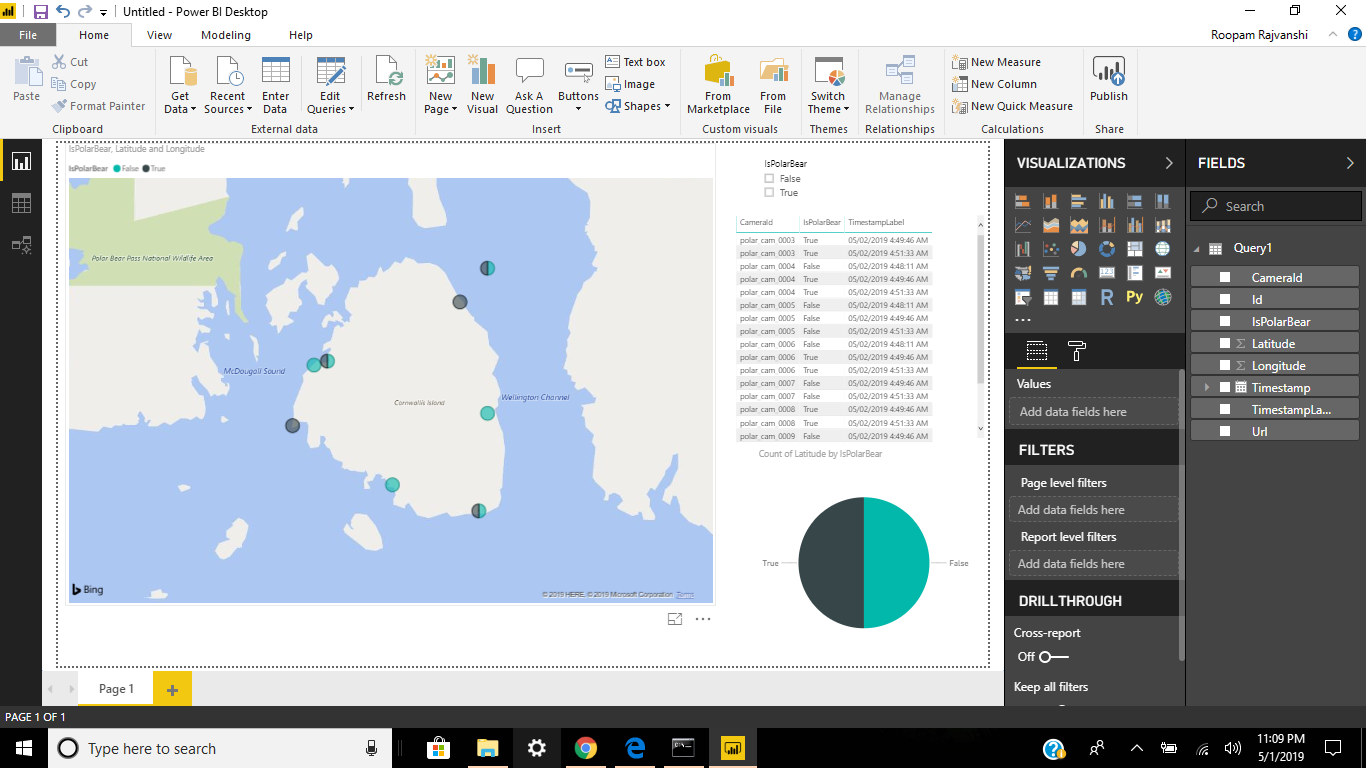

Layout of this report page (visuals, bound fields, positions):
{"tool":"powerbi","page":{"name":"Polar Bear Activity","canvas":[1280,720],"ordinal":0},"visuals":[{"type":"map","fields":{"X":["Query1.Longitude"],"Y":["Query1.Latitude"],"Series":["Query1.IsPolarBear"]},"box":[9.6,0,896.2,637.4],"z":1},{"type":"tableEx","title":"Camera Activity","fields":{"Values":["Query1.CameraId","Query1.IsPolarBear","Query1.TimestampLabel"]},"box":[927.9,95,352.4,324.9],"z":2},{"type":"pieChart","title":"Proportion of Polar Bear Sightings","fields":{"Category":["Query1.IsPolarBear"],"Y":["CountNonNull(Query1.Latitude)"]},"box":[959.5,419.9,300.1,300.1],"z":3},{"type":"slicer","title":"Show Sightings that are:","fields":{"Values":["Query1.IsPolarBear"]},"box":[959.5,15.1,168,79.8],"z":4}]}

Visuals, with their boxes in screenshot pixels (x1, y1, x2, y2):
map - Query1.Longitude x Query1.Latitude: bbox=(38, 53, 948, 700)
"Camera Activity" tableEx: bbox=(970, 150, 1328, 480)
"Proportion of Polar Bear Sightings" pieChart: bbox=(1002, 480, 1307, 767)
"Show Sightings that are:" slicer: bbox=(1002, 69, 1173, 150)
